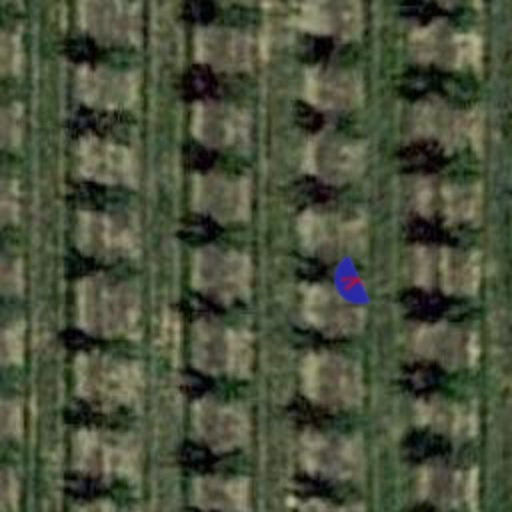semicircle: (312, 248, 384, 320)
